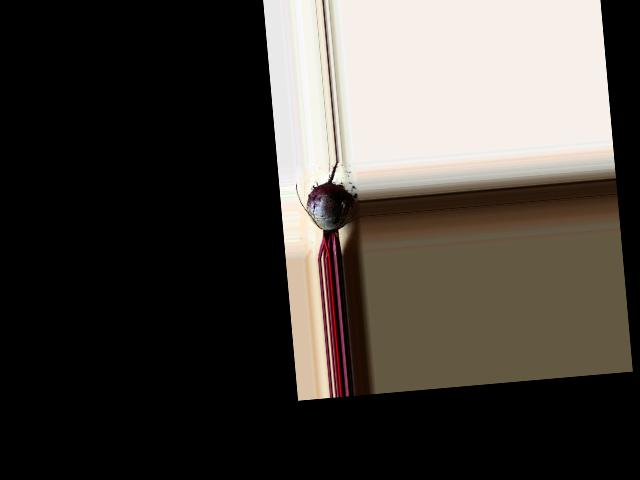beet: (294, 159, 357, 259)
